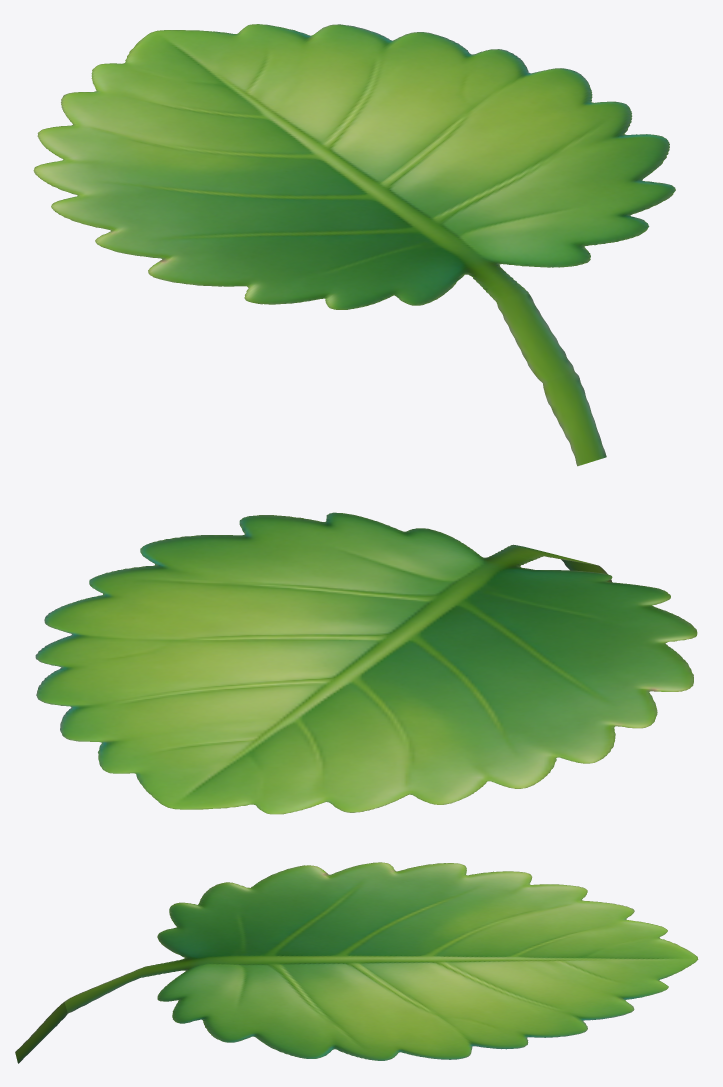
Rendered from Scene02_yezi01.FBX.
The picture shows the model from 3 angles, top to bottom: view 1: azimuth 30°, elevation 25°; view 2: azimuth 150°, elevation 25°; view 3: azimuth 270°, elevation 25°; orthographic projection. The views are drawn at different scales.
Visible parts, largest first — view 1: scene02_Ye01; view 2: scene02_Ye01; view 3: scene02_Ye01.
Part boxes in pixels (x1,y1,x2,y2): scene02_Ye01: (33,24,675,466); scene02_Ye01: (35,512,697,814); scene02_Ye01: (15,862,698,1063).
Bounding box in the file's own units: 104 × 21.65 × 136.
